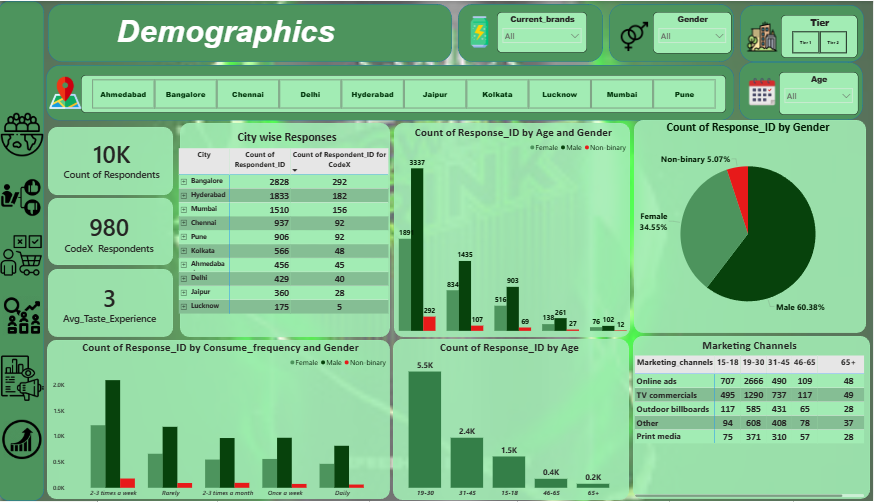

The dashboard page shown, as its layout file describes it:
{"tool":"powerbi","page":{"name":"Demographics","canvas":[2450,1400],"ordinal":0},"visuals":[{"type":"shape","box":[140,8.4,1131.2,162.4],"z":0},{"type":"shape","box":[134.5,179.3,1927.2,155.5],"z":1000},{"type":"shape","box":[0,0,129.2,1400],"z":2000},{"type":"shape","box":[1710.8,8.4,350,162.4],"z":3000},{"type":"shape","box":[1288,8.4,406,162.4],"z":4000},{"type":"shape","box":[2077.6,11.2,347.2,159.6],"z":5000},{"type":"shape","box":[2074.8,170.8,347.2,162.4],"z":6000},{"type":"shape","box":[139.4,352.8,350,190.7],"z":7000},{"type":"shape","box":[140,750.4,350,190.4],"z":8000},{"type":"shape","box":[140,551.6,350,187.6],"z":9000},{"type":"shape","box":[509.6,341.6,588,599.2],"z":10000},{"type":"shape","box":[137.2,949.2,960.4,445.2],"z":11000},{"type":"shape","box":[1108.8,341.6,660.8,599.2],"z":12000},{"type":"shape","box":[1780.8,333.2,649.6,596.4],"z":13000},{"type":"shape","box":[1106,946.4,660.8,450.8],"z":14000},{"type":"shape","box":[1778,938,663.6,456.4],"z":15000},{"type":"pieChart","fields":{"Y":["CountNonNull(fact_survey_responses.Response_ID)"],"Category":["dim_repondents.Gender"]},"box":[1769.6,333.2,660.8,596.4],"z":16000},{"type":"clusteredColumnChart","fields":{"Category":["dim_repondents.Age"],"Y":["CountNonNull(fact_survey_responses.Response_ID)"],"Series":["dim_repondents.Gender"]},"box":[1117.2,347.2,652.4,582.4],"z":17000},{"type":"columnChart","fields":{"Category":["dim_repondents.Age"],"Y":["CountNonNull(fact_survey_responses.Response_ID)"]},"box":[1097.6,949.2,669.2,450.8],"z":18000},{"type":"clusteredColumnChart","fields":{"Series":["dim_repondents.Gender"],"Y":["CountNonNull(fact_survey_responses.Response_ID)"],"Category":["fact_survey_responses.Consume_frequency"]},"box":[148.4,949.2,949.2,450.8],"z":19000},{"type":"pivotTable","title":"City wise Responses","fields":{"Values":["CountNonNull(dim_repondents.Respondent_ID)","dim_repondents.Count of Respondent_ID for CodeX"],"Rows":["dim_cities.City","dim_repondents.Gender"]},"box":[501.2,361.2,616,568.4],"z":20000},{"type":"pivotTable","title":"Marketing Channels ","fields":{"Rows":["fact_survey_responses.Marketing_channels"],"Values":["CountNonNull(dim_repondents.Respondent_ID)"],"Columns":["dim_repondents.Age"]},"box":[1778,943.6,652.4,450.8],"z":21000},{"type":"card","fields":{"Values":["CountNonNull(dim_repondents.Respondent_ID)"]},"box":[140,336,356,210],"z":22000},{"type":"card","fields":{"Values":["dim_repondents.Count of Respondent_ID for CodeX"]},"box":[145.6,565.6,330.4,162.4],"z":23000},{"type":"slicer","fields":{"Values":["dim_cities.City"]},"box":[232,206,1806,106],"z":24000},{"type":"slicer","title":"Age","fields":{"Values":["dim_repondents.Age"]},"box":[2188,200,222,120],"z":25000},{"type":"slicer","title":"Tier","fields":{"Values":["dim_cities.Tier"]},"box":[2192,40,214,120],"z":26000},{"type":"slicer","title":"Gender","fields":{"Values":["dim_repondents.Gender"]},"box":[1834,32,220,116],"z":27000},{"type":"slicer","title":"Current_brands","fields":{"Values":["fact_survey_responses.Current_brands"]},"box":[1396,30,252,114],"z":28000},{"type":"textbox","box":[176.9,29,922.2,118.9],"z":29000},{"type":"image","box":[1299.2,33.6,98,106.4],"z":30000},{"type":"image","box":[2092,48,96,104],"z":31000},{"type":"image","box":[1736,52,92,92],"z":32000},{"type":"image","box":[2094,206,90,94],"z":33000},{"type":"image","box":[136,208,102,100],"z":34000},{"type":"image","box":[0,817.6,134.4,126],"z":35000},{"type":"image","box":[2.8,1167.6,128.8,120.4],"z":36000},{"type":"card","fields":{"Values":["fact_survey_responses.Avg_Taste_Experience"]},"box":[148,750,328,188],"z":37000},{"type":"image","box":[2.8,308,128.8,131.6],"z":38000},{"type":"image","box":[0,487.2,128.8,126],"z":39000},{"type":"image","box":[0,646.8,128.8,131.6],"z":40000},{"type":"image","box":[0,985.6,137.2,140],"z":41000}]}

Visuals, with their boxes in screenshot pixels (x1, y1, x2, y2), scaled from the page's 2450x1400 canvas onto the 874x502 screenshot:
shape: [left=50, top=3, right=453, bottom=61]
shape: [left=48, top=64, right=735, bottom=120]
shape: [left=0, top=0, right=46, bottom=501]
shape: [left=610, top=3, right=735, bottom=61]
shape: [left=459, top=3, right=604, bottom=61]
shape: [left=741, top=4, right=865, bottom=61]
shape: [left=740, top=61, right=864, bottom=119]
shape: [left=50, top=127, right=175, bottom=195]
shape: [left=50, top=269, right=175, bottom=337]
shape: [left=50, top=198, right=175, bottom=265]
shape: [left=182, top=122, right=392, bottom=337]
shape: [left=49, top=340, right=392, bottom=500]
shape: [left=396, top=122, right=631, bottom=337]
shape: [left=635, top=119, right=867, bottom=333]
shape: [left=395, top=339, right=630, bottom=501]
shape: [left=634, top=336, right=871, bottom=500]
pieChart - CountNonNull(fact_survey_responses.Response_ID) x dim_repondents.Gender: [left=631, top=119, right=867, bottom=333]
clusteredColumnChart - dim_repondents.Age x CountNonNull(fact_survey_responses.Response_ID): [left=399, top=124, right=631, bottom=333]
columnChart - dim_repondents.Age x CountNonNull(fact_survey_responses.Response_ID): [left=392, top=340, right=630, bottom=501]
clusteredColumnChart - dim_repondents.Gender x CountNonNull(fact_survey_responses.Response_ID): [left=53, top=340, right=392, bottom=501]
"City wise Responses" pivotTable: [left=179, top=130, right=399, bottom=333]
"Marketing Channels " pivotTable: [left=634, top=338, right=867, bottom=500]
card - CountNonNull(dim_repondents.Respondent_ID): [left=50, top=120, right=177, bottom=196]
card - dim_repondents.Count of Respondent_ID for CodeX: [left=52, top=203, right=170, bottom=261]
slicer - dim_cities.City: [left=83, top=74, right=727, bottom=112]
"Age" slicer: [left=781, top=72, right=860, bottom=115]
"Tier" slicer: [left=782, top=14, right=858, bottom=57]
"Gender" slicer: [left=654, top=11, right=733, bottom=53]
"Current_brands" slicer: [left=498, top=11, right=588, bottom=52]
textbox: [left=63, top=10, right=392, bottom=53]
image: [left=463, top=12, right=498, bottom=50]
image: [left=746, top=17, right=781, bottom=55]
image: [left=619, top=19, right=652, bottom=52]
image: [left=747, top=74, right=779, bottom=108]
image: [left=49, top=75, right=85, bottom=110]
image: [left=0, top=293, right=48, bottom=338]
image: [left=1, top=419, right=47, bottom=462]
card - fact_survey_responses.Avg_Taste_Experience: [left=53, top=269, right=170, bottom=336]
image: [left=1, top=110, right=47, bottom=158]
image: [left=0, top=175, right=46, bottom=220]
image: [left=0, top=232, right=46, bottom=279]
image: [left=0, top=353, right=49, bottom=404]
